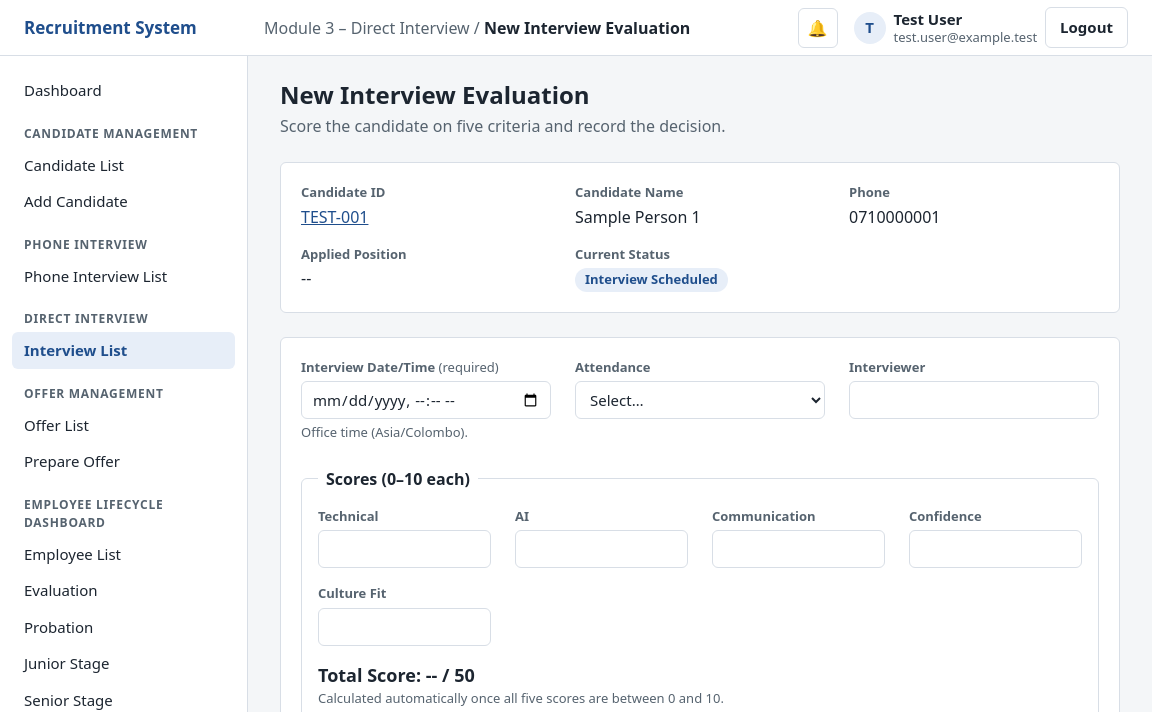
it: interview evaluation: scores and total › a partly scored interview is stopped, naming the missing scores
Type "8" into the number field labelled "Technical" at (404, 549), box x1=318 y1=530 x2=491 y2=568
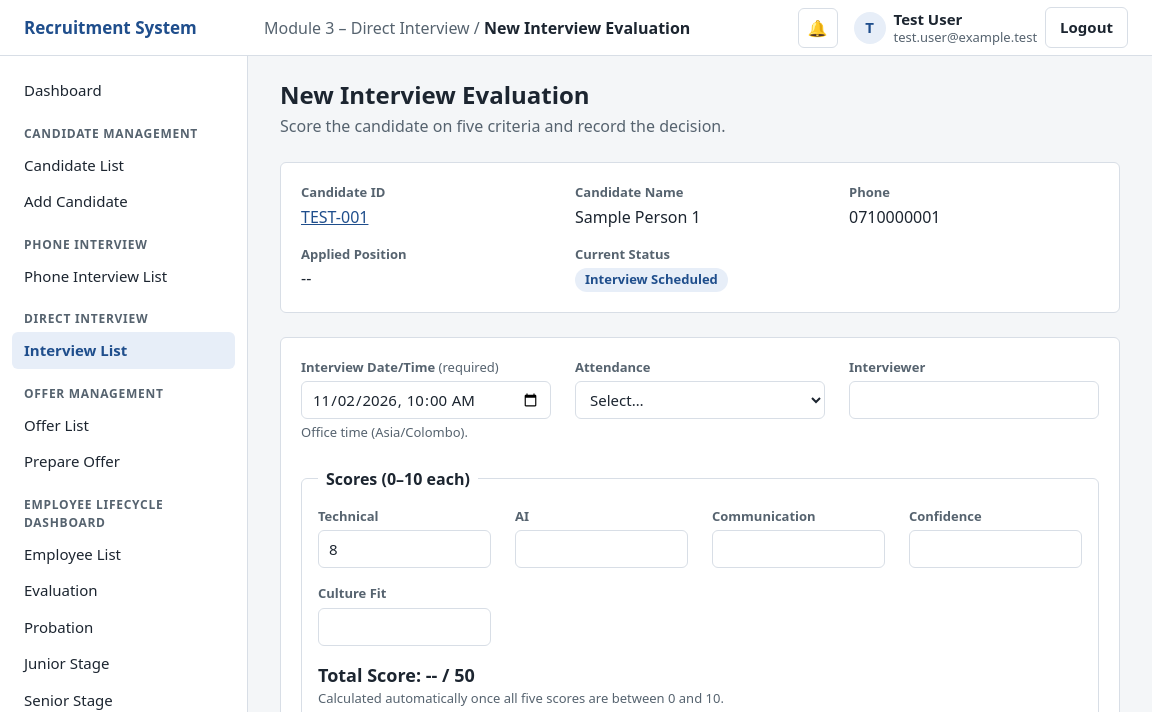
Type "7" into the number field labelled "AI" at (602, 549), box x1=515 y1=530 x2=688 y2=568
(page scrolled)
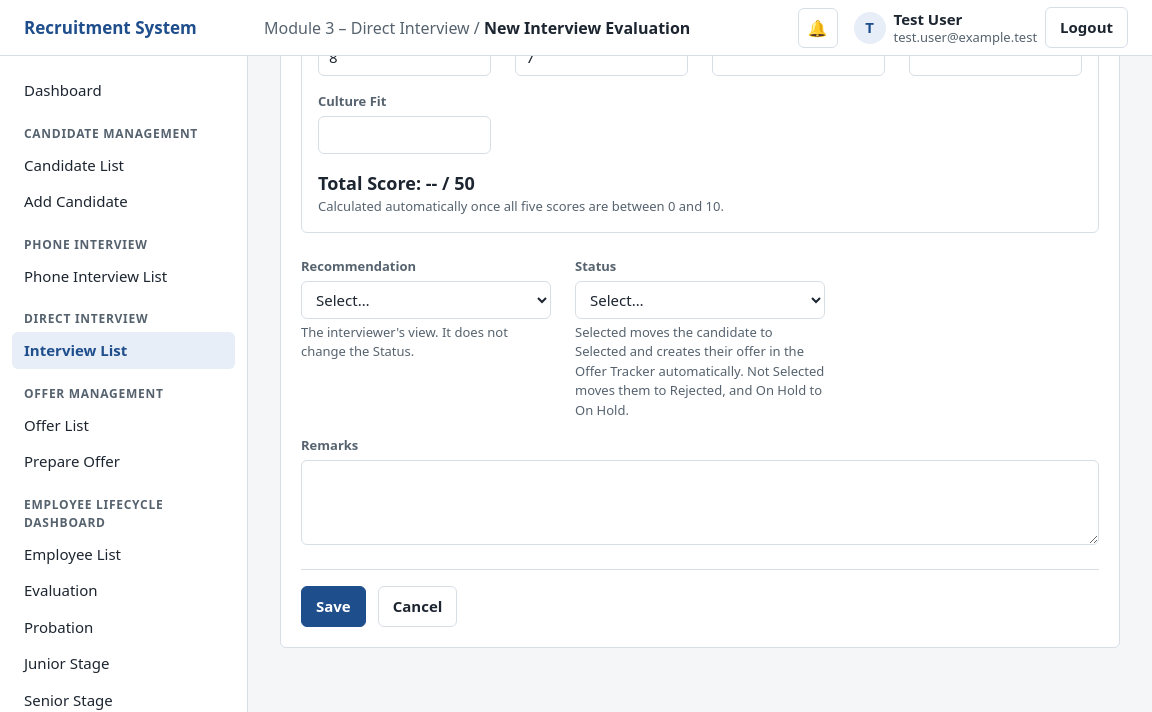
Click the button "Save" at (333, 606), box x1=301 y1=586 x2=366 y2=626
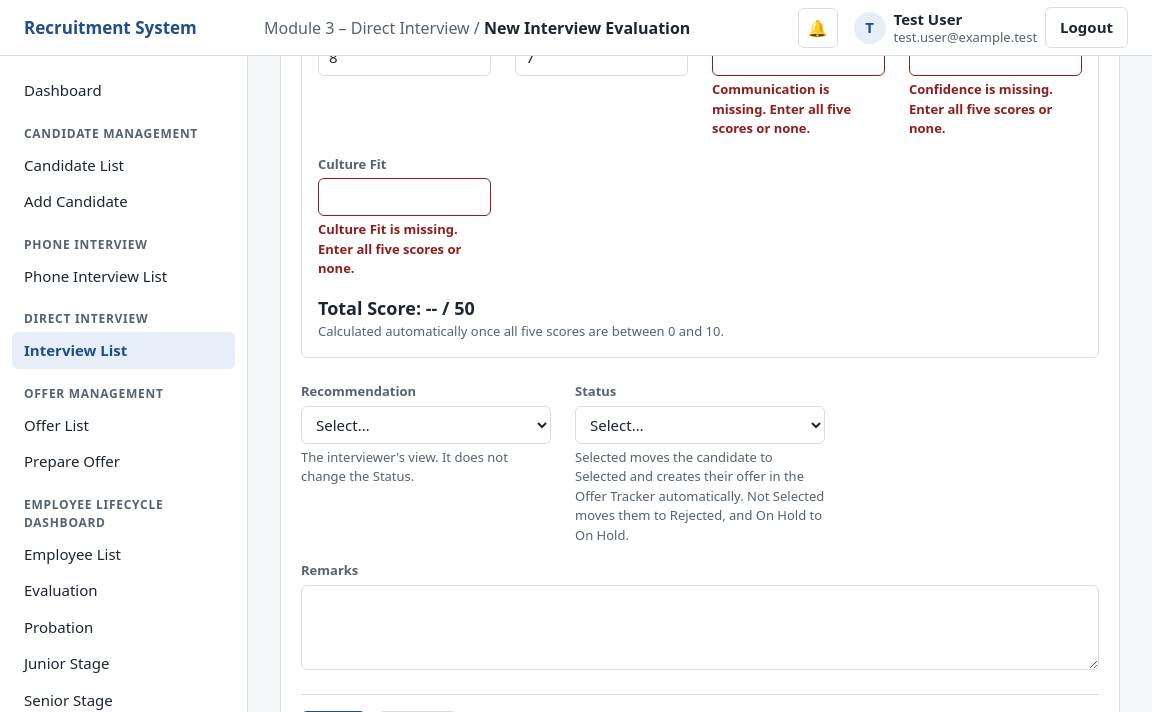
Check: the text "Communication is missing. Enter all five scores or none." is shown, box x1=712 y1=80 x2=851 y2=137
